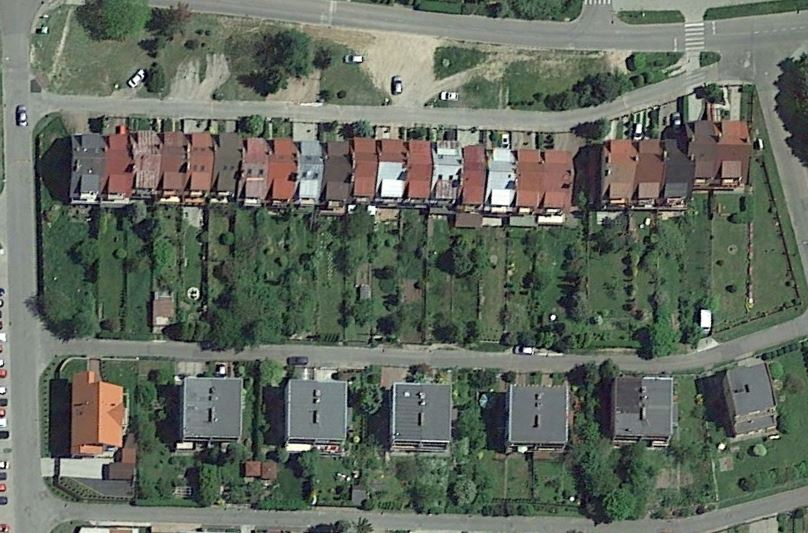family house: (67, 364, 132, 464), (604, 369, 677, 458), (500, 376, 572, 458), (717, 357, 784, 444), (176, 373, 247, 454), (386, 380, 456, 461), (281, 376, 351, 457)
terrace house: (56, 121, 577, 231), (587, 111, 756, 219)
